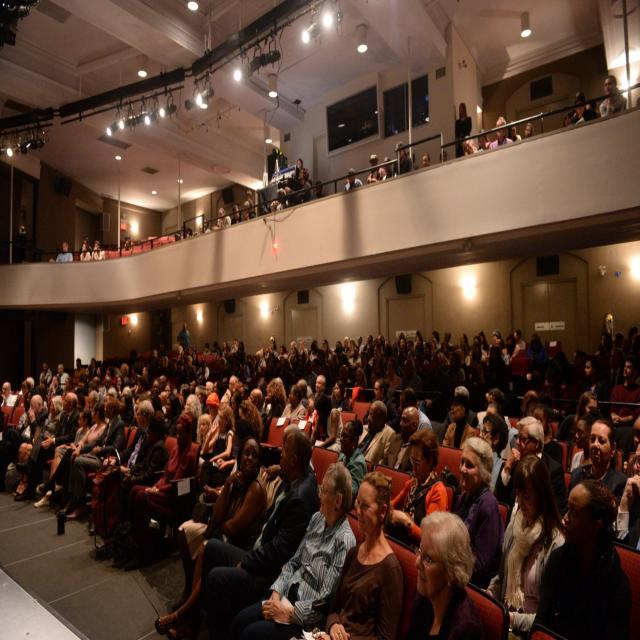body: (192, 424, 321, 640), (220, 458, 360, 640), (153, 432, 269, 640), (195, 330, 443, 416), (526, 476, 632, 640), (309, 469, 405, 640), (443, 329, 575, 452), (481, 452, 566, 640), (175, 418, 258, 608), (116, 413, 197, 573), (403, 508, 487, 640), (36, 345, 195, 410), (56, 395, 126, 522), (566, 415, 630, 547), (453, 434, 506, 592), (102, 398, 156, 546), (44, 400, 112, 514), (493, 416, 569, 518), (14, 389, 82, 494), (391, 426, 448, 550), (452, 411, 511, 513), (111, 408, 156, 538), (33, 410, 91, 508), (13, 394, 63, 500), (0, 393, 49, 492), (611, 439, 640, 552), (335, 418, 369, 511), (194, 405, 237, 477), (376, 405, 421, 473), (356, 400, 397, 465), (609, 356, 640, 430), (309, 392, 344, 456), (362, 378, 401, 434), (0, 376, 33, 442), (310, 393, 344, 455), (442, 394, 476, 451), (424, 353, 449, 420), (577, 357, 604, 416), (574, 390, 600, 450), (596, 325, 640, 358), (598, 74, 628, 119), (562, 99, 602, 132), (406, 146, 448, 173), (173, 218, 220, 242), (459, 128, 494, 160), (280, 383, 306, 425), (238, 400, 264, 440), (454, 101, 472, 158), (569, 91, 598, 125), (286, 168, 313, 204), (265, 187, 293, 219), (397, 358, 423, 392), (488, 116, 514, 149), (393, 141, 413, 177), (241, 198, 257, 242), (508, 120, 535, 146), (445, 351, 466, 384), (330, 378, 350, 412), (366, 154, 386, 184), (306, 393, 320, 435), (308, 374, 329, 400), (344, 168, 363, 192), (176, 322, 191, 352), (382, 156, 398, 181), (630, 414, 640, 454), (55, 242, 73, 262), (314, 176, 327, 201), (91, 240, 106, 261), (78, 236, 92, 257), (230, 204, 244, 225), (218, 207, 231, 229), (79, 243, 92, 260), (295, 157, 304, 181), (124, 234, 132, 251)
